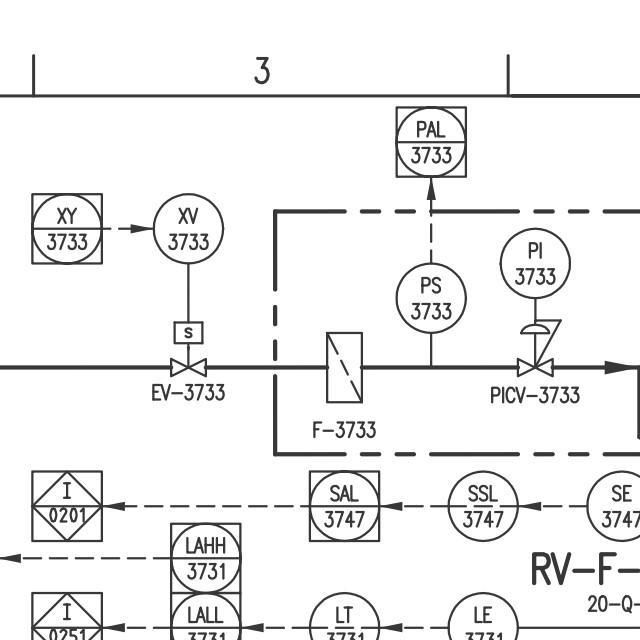F2: (316, 325, 368, 408)
PCV: (512, 313, 563, 382)
SV: (165, 313, 216, 383)
